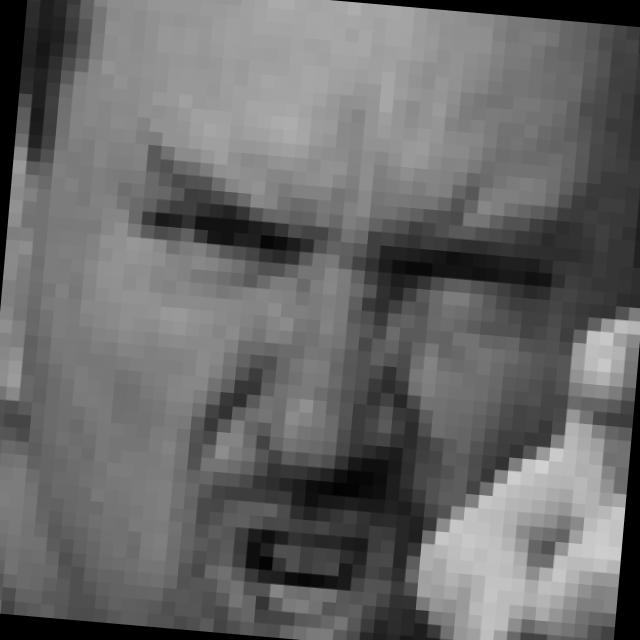angry: (95, 147, 562, 640)
